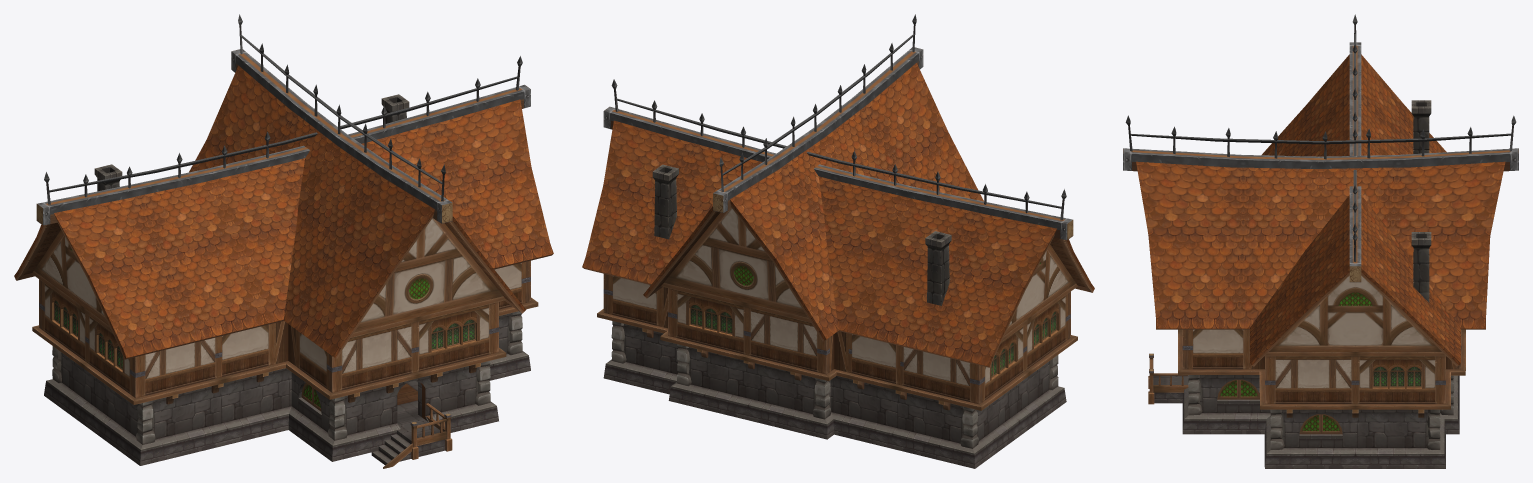
Rendered from RichHouse.fbx.
3 views of the same model, side by side, from view 1: azimuth 30°, elevation 25°; view 2: azimuth 150°, elevation 25°; view 3: azimuth 270°, elevation 25° (orthographic). The views are drawn at different scales.
Visible parts, largest first — view 1: Tavern_LOD0; view 2: Tavern_LOD0; view 3: Tavern_LOD0.
Part boxes in pixels (<box>): Tavern_LOD0: <box>14,14,553,468</box>; Tavern_LOD0: <box>582,14,1094,468</box>; Tavern_LOD0: <box>1123,14,1518,468</box>.
Size of the model in its own units: 3167 by 1876 by 2367.
Materials: 2 (2 with a texture image).
